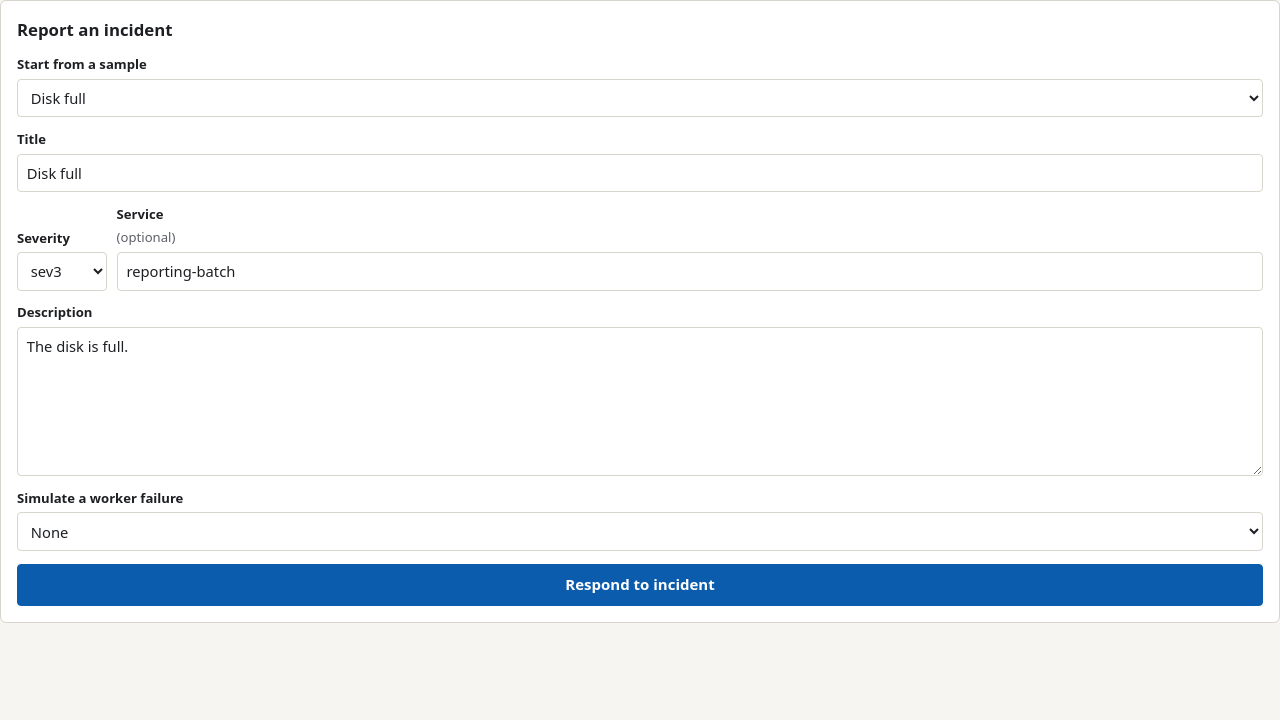
it: IncidentForm › fills the fields from a chosen sample
The width and height of the screenshot is (1280, 720).
Select "Cert expiring" in the dropdown labelled "Start from a sample" at (640, 98), box [17, 79, 1263, 117]
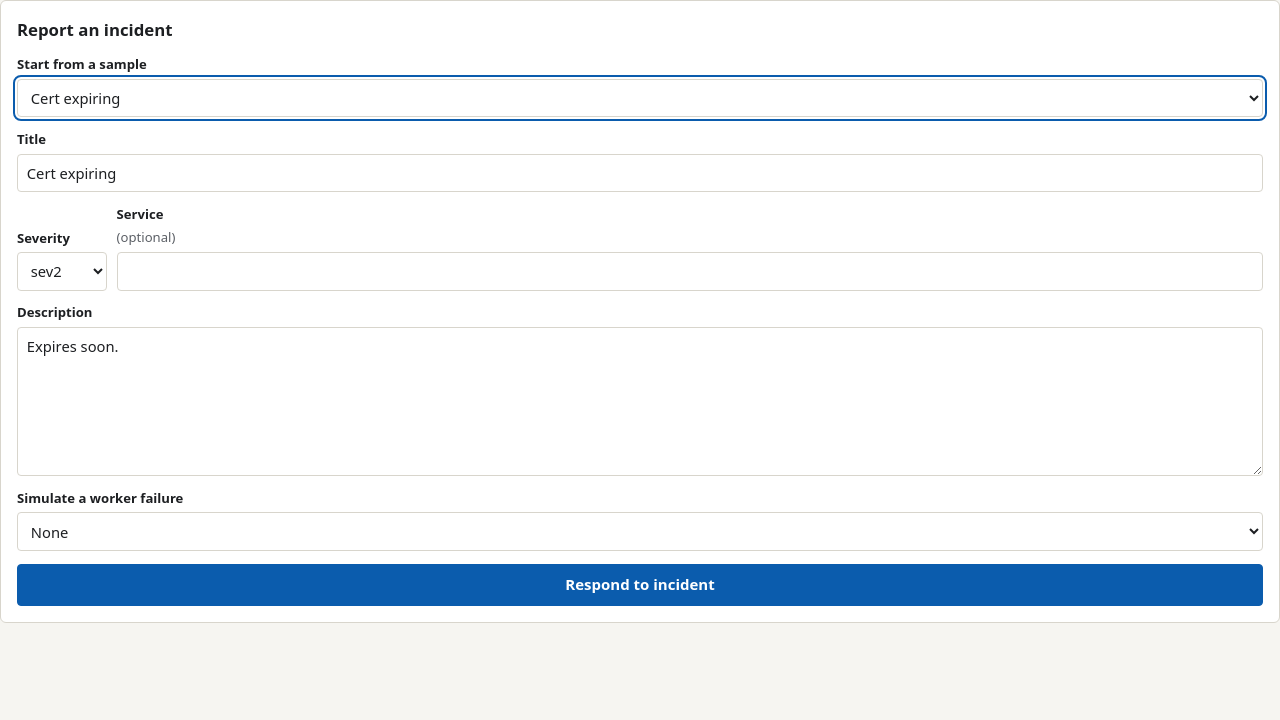
Expected: the field labelled "Title" holds "Cert expiring", [17, 154, 1263, 192]
Expected: the dropdown labelled "Severity" shows "sev2", [17, 252, 107, 291]
Expected: the field labelled "Service (optional)" is empty, [117, 252, 1263, 291]
